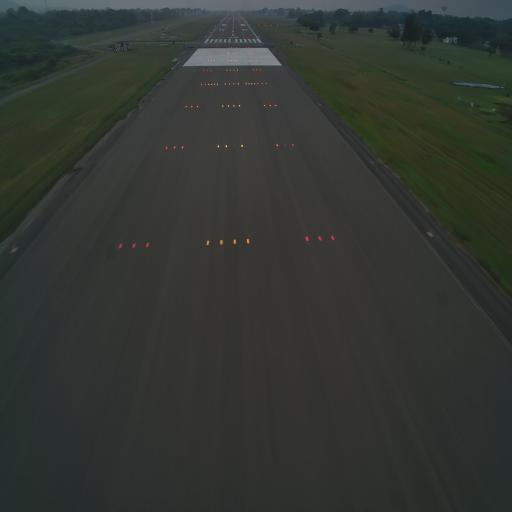off: (10, 242, 20, 256), (425, 226, 434, 240), (281, 140, 287, 148), (232, 142, 236, 151)
on: (116, 240, 124, 252), (316, 233, 323, 245), (144, 239, 150, 251), (204, 238, 210, 250), (304, 232, 310, 244), (130, 240, 137, 250), (219, 239, 225, 250), (231, 238, 237, 248), (330, 235, 336, 244), (246, 238, 251, 247), (164, 144, 168, 151), (216, 144, 220, 151), (225, 143, 229, 150), (173, 144, 176, 152), (180, 144, 184, 150), (240, 143, 244, 149), (276, 144, 280, 150), (291, 142, 294, 149)
